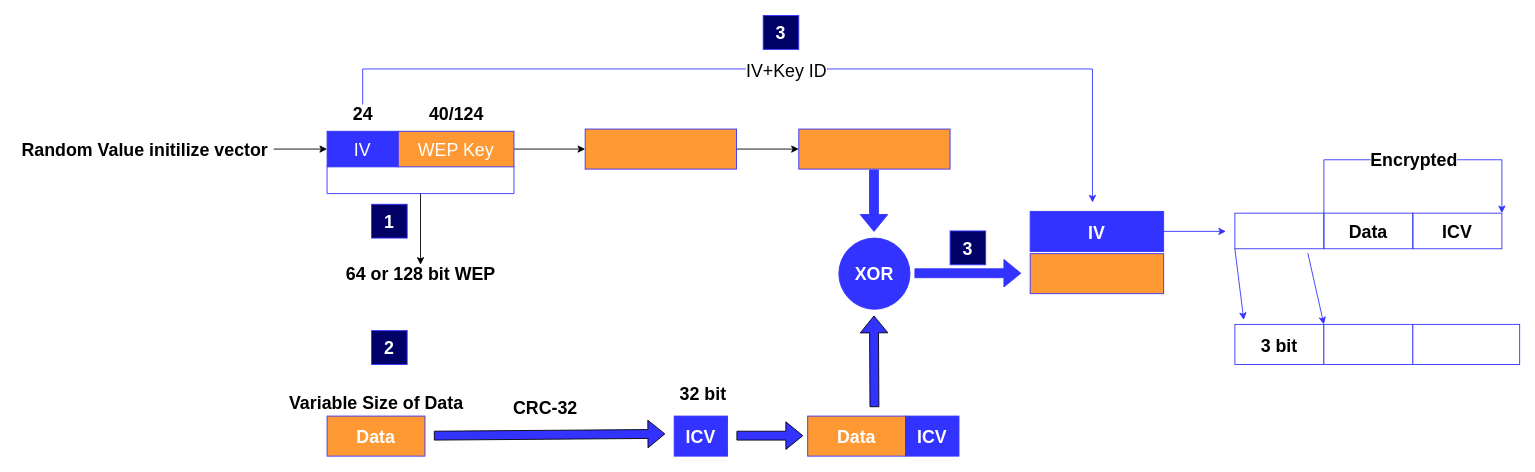
The diagram is 1535 pixels wide and 472 high, and some of its shapes have lost their labels. The centre of each missing label's shape, as x and y in pixels:
2 bit key id: the point at 1466,344
Cipher Text: the point at 1096,273
IV 4 bit: the point at 1279,230
pad 6 bit: the point at 1368,344
Random Keystream: the point at 874,148
RC4 Algoritham: the point at 660,148
